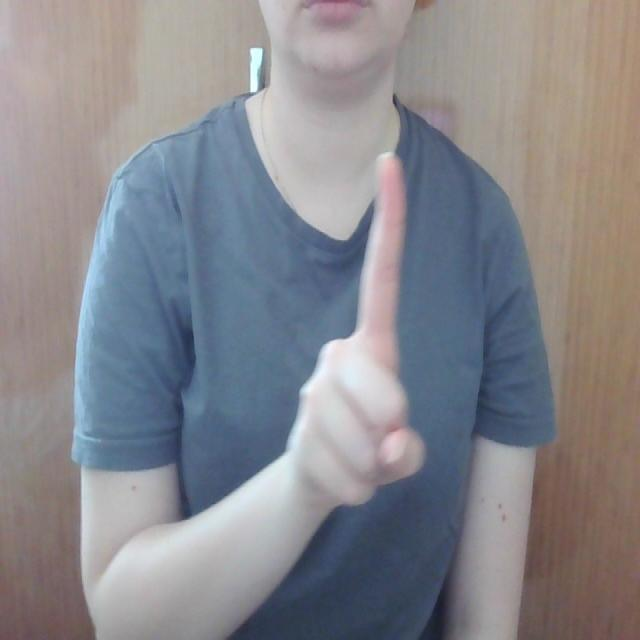Hayir: (282, 132, 439, 535)
